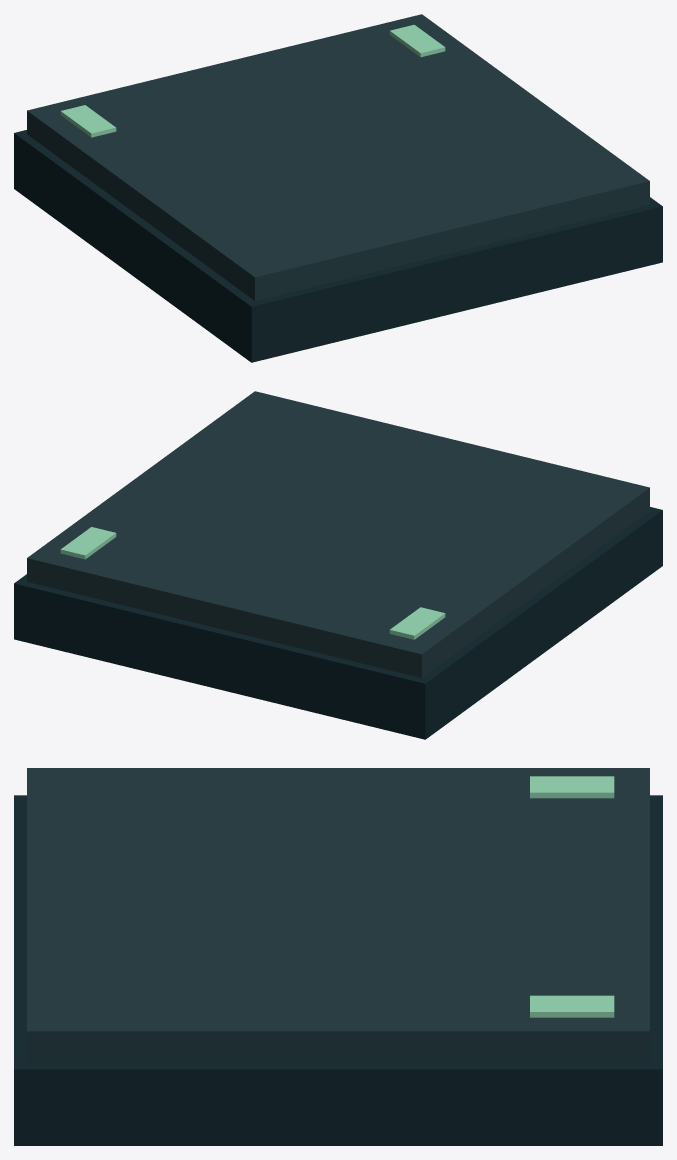
File: floor-tile.glb
The picture shows the model from 3 angles, top to bottom: view 1: azimuth 30°, elevation 25°; view 2: azimuth 150°, elevation 25°; view 3: azimuth 270°, elevation 25°; orthographic projection. The views are drawn at different scales.
Parts seen in each view (by area): view 1: surface, foundation, stripe--1, stripe-1; view 2: surface, foundation, stripe-1, stripe--1; view 3: surface, foundation, stripe--1, stripe-1.
Boxes of the visible parts, left/top/right/bottom form: surface: left=27, top=14, right=649, bottom=300; foundation: left=14, top=130, right=662, bottom=362; stripe--1: left=60, top=105, right=116, bottom=137; stripe-1: left=389, top=24, right=445, bottom=57; surface: left=27, top=391, right=649, bottom=677; foundation: left=14, top=507, right=662, bottom=739; stripe-1: left=60, top=527, right=116, bottom=559; stripe--1: left=389, top=607, right=445, bottom=639; surface: left=27, top=768, right=649, bottom=1063; foundation: left=14, top=795, right=662, bottom=1145; stripe--1: left=530, top=776, right=614, bottom=798; stripe-1: left=530, top=995, right=614, bottom=1017.
Size of the model in its own units: 1 by 0.195 by 1.
